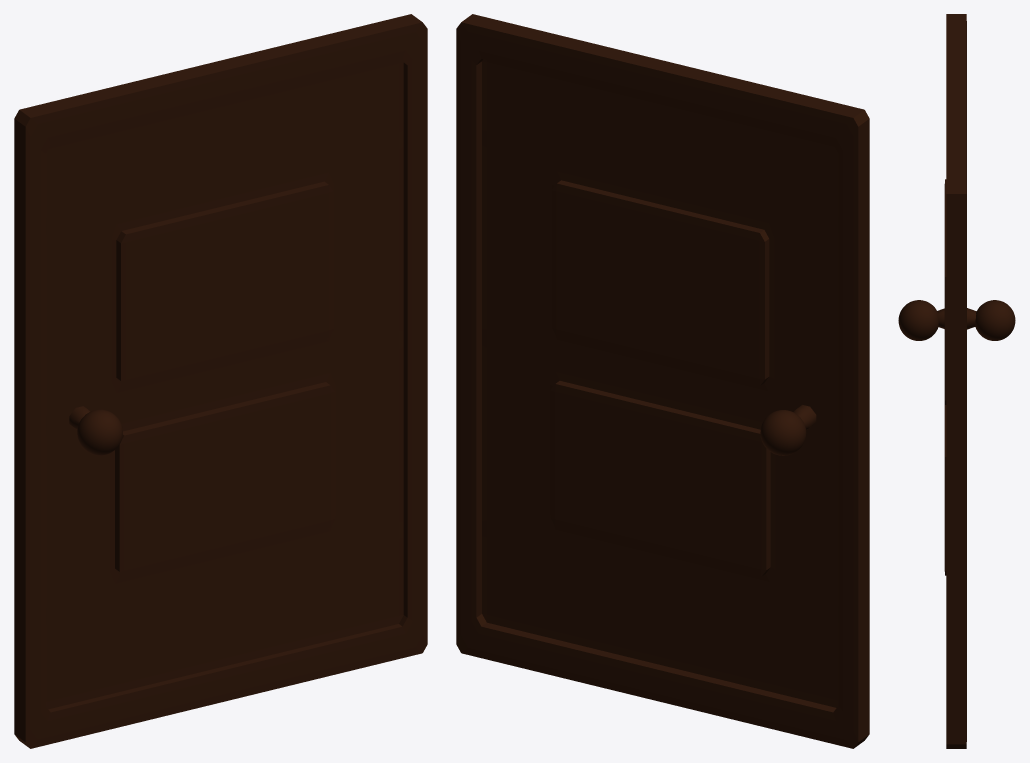
The model's file is door_v5.fbx.
The picture shows the model from 3 angles, left to right: view 1: azimuth 30°, elevation 25°; view 2: azimuth 150°, elevation 25°; view 3: azimuth 270°, elevation 25°; orthographic projection. The views are drawn at different scales.
Visible parts, largest first — view 1: Door, DoorKnob1; view 2: Door, DoorKnob2; view 3: Door, DoorKnob1, DoorKnob2, DoorHandle.
Part boxes in pixels (x1,y1,x2,y2): Door: (14, 14, 427, 748); DoorKnob1: (77, 409, 122, 455); Door: (456, 14, 869, 748); DoorKnob2: (760, 410, 806, 455); Door: (944, 14, 966, 748); DoorKnob1: (898, 300, 938, 340); DoorKnob2: (975, 300, 1015, 340); DoorHandle: (937, 308, 976, 329).
Bounding box in the file's own units: 200 × 300 × 56.42.
